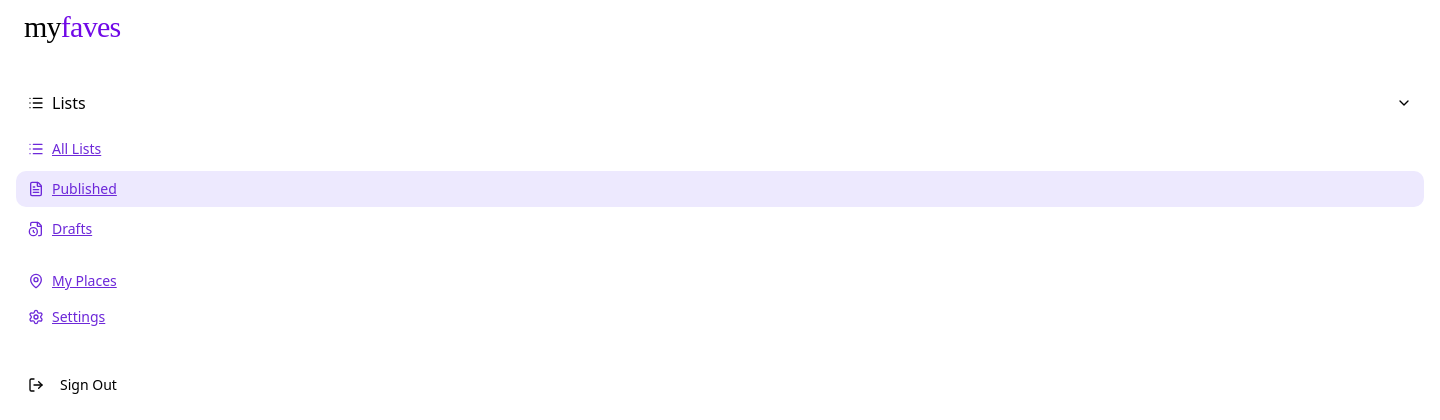
Test: DashboardSidebar › User Story 3: Sign Out from Dashboard › Sign Out shows loading state during sign-out
The image size is (1440, 420).
What coordinates should you click on to do the following:
click the button "Sign Out"
I would click on:
 (88, 384)
Its box is [16, 367, 1424, 403].
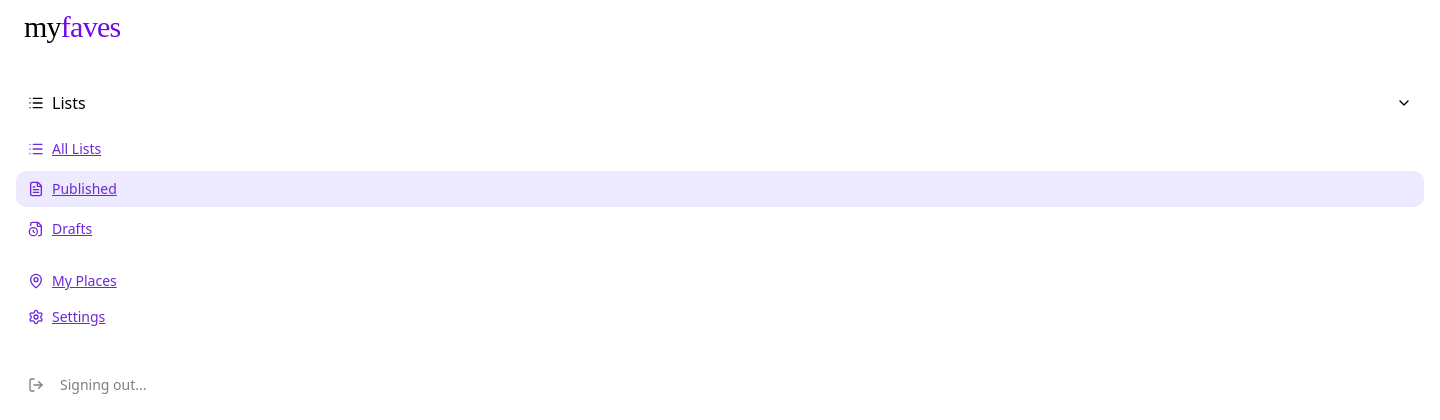
Now the button "Signing out..." is shown, box [16, 367, 1424, 403]
